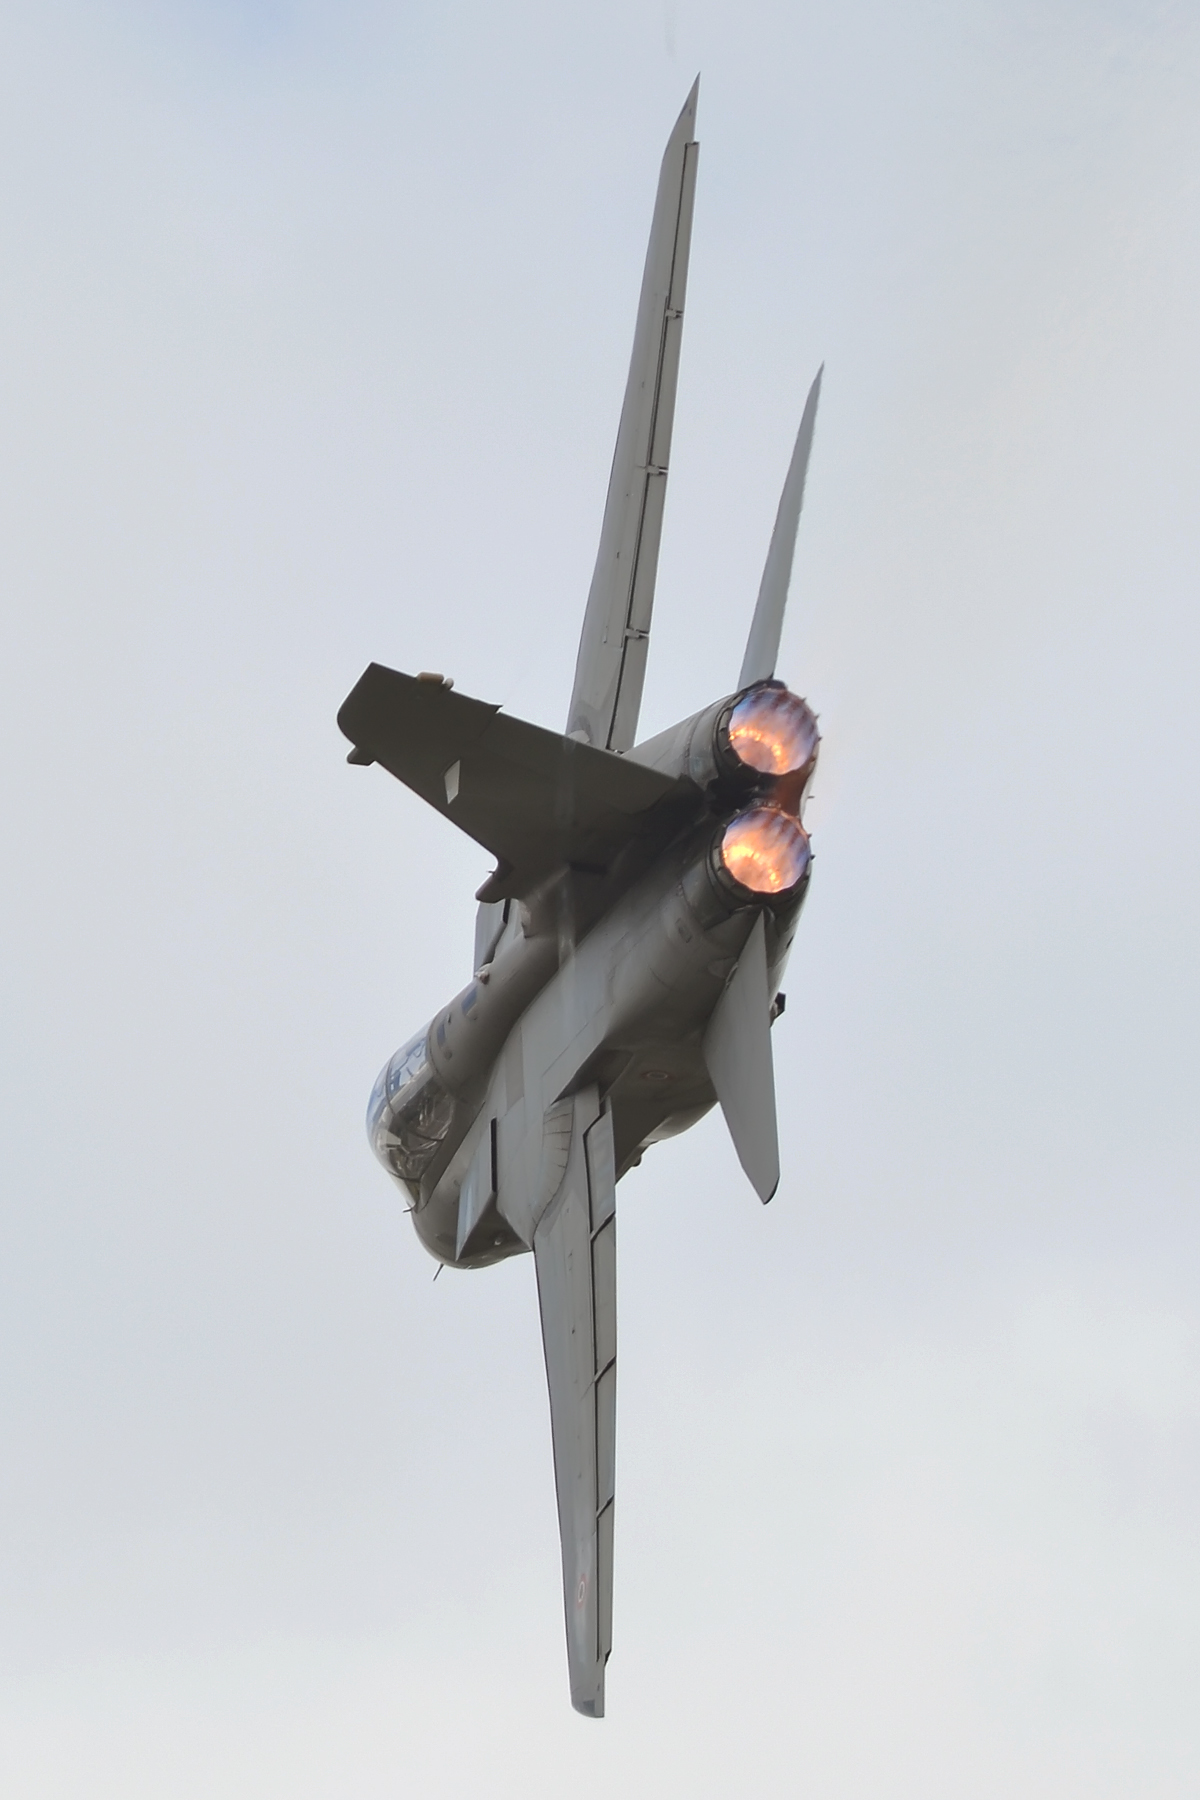Tornado: (336, 68, 824, 1720)
